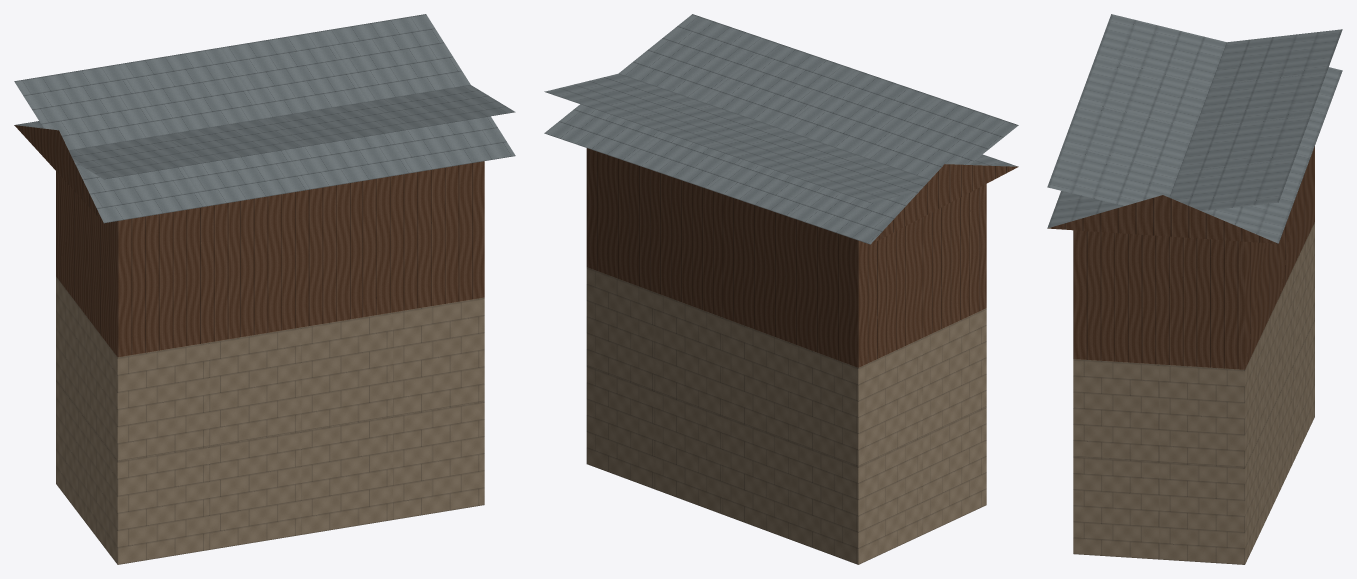
Rendered from bld_c18_-44_635.gltf.
3 renders of one model, left to right at view 1: azimuth 30°, elevation 25°; view 2: azimuth 150°, elevation 25°; view 3: azimuth 270°, elevation 25°, orthographic. The views are drawn at different scales.
Parts seen in each view (by area): view 1: bld_c18_-44_635; view 2: bld_c18_-44_635; view 3: bld_c18_-44_635.
Part boxes in pixels (x1,y1,x2,y2): bld_c18_-44_635: [14, 14, 515, 564]; bld_c18_-44_635: [544, 14, 1018, 564]; bld_c18_-44_635: [1047, 14, 1342, 564].
Bounding box in the file's own units: 9.82 × 9.1 × 6.5.
4 materials, 4 textured.
